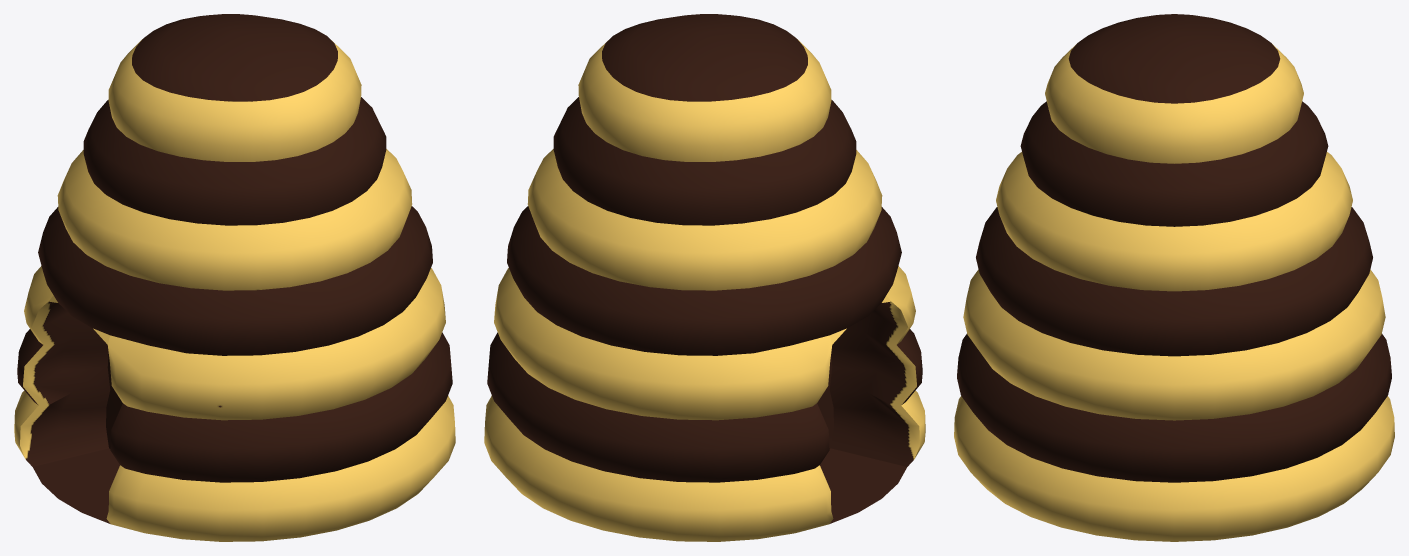
Rendered from Hive.fbx.
3 renders of one model, left to right at view 1: azimuth 30°, elevation 25°; view 2: azimuth 150°, elevation 25°; view 3: azimuth 270°, elevation 25°, orthographic.
Visible parts, largest first — view 1: Hive; view 2: Hive; view 3: Hive.
Part boxes in pixels (x1,y1,x2,y2): Hive: (14,14,455,541); Hive: (484,14,925,541); Hive: (954,14,1394,541).
Bounding box in the file's own units: 13 × 14.31 × 13.52.
1 material, 1 textured.
